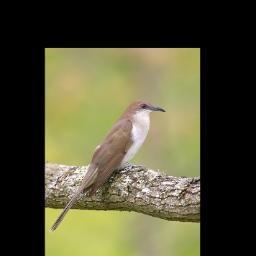Cuckoo: (49, 99, 167, 233)
